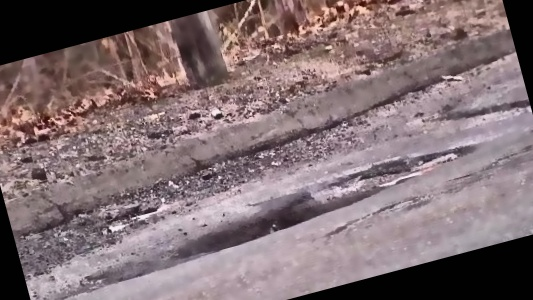pothole: (168, 136, 481, 264)
